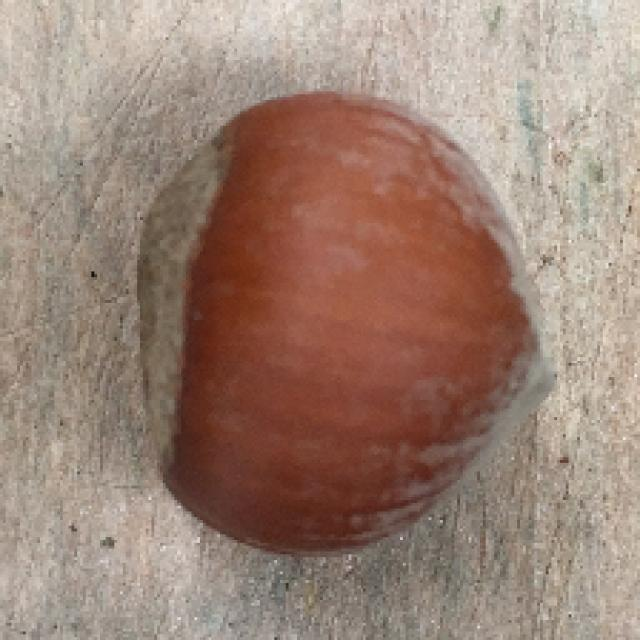QualityHazelnut: (132, 86, 560, 559)
